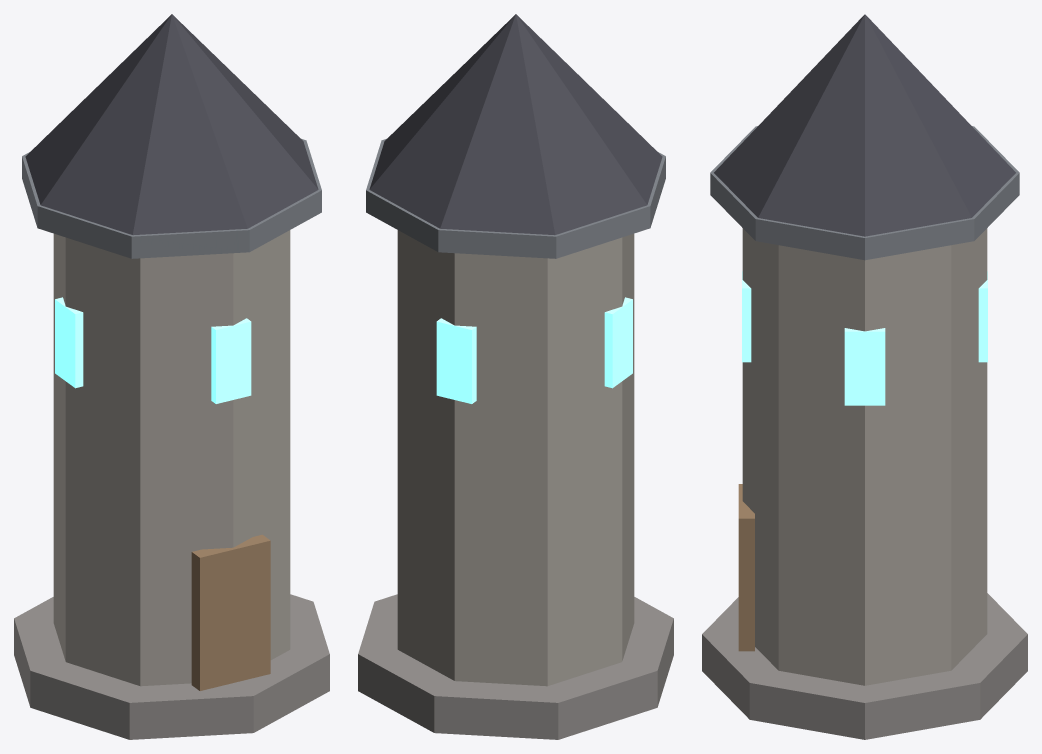
File: building_tower_v1.glb
3 renders of one model, left to right at view 1: azimuth 30°, elevation 25°; view 2: azimuth 150°, elevation 25°; view 3: azimuth 270°, elevation 25°, orthographic.
Parts seen in each view (by area): view 1: building_tower; view 2: building_tower; view 3: building_tower.
Boxes of the visible parts, bbox=[...] form: building_tower: bbox=[14, 14, 329, 739]; building_tower: bbox=[358, 14, 673, 739]; building_tower: bbox=[702, 14, 1027, 739].
Bounding box in the file's own units: 4 × 8.9 × 4.
